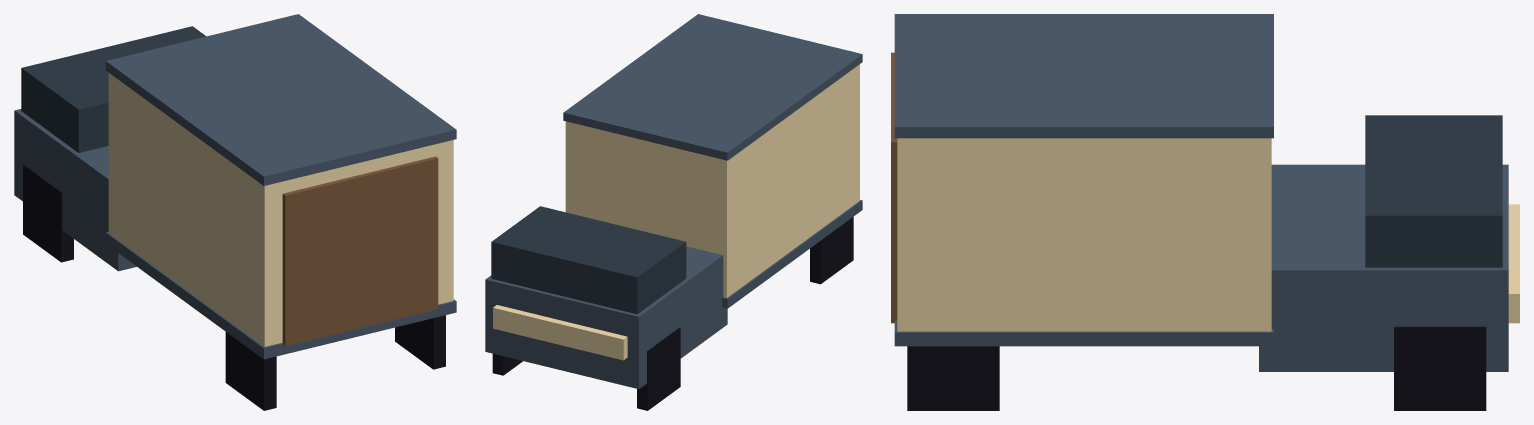
File: box_van.obj
3 views of the same model, side by side, from view 1: azimuth 30°, elevation 25°; view 2: azimuth 150°, elevation 25°; view 3: azimuth 270°, elevation 25° (orthographic). The views are drawn at different scales.
Visible parts, largest first — view 1: box_van; view 2: box_van; view 3: box_van.
Boxes of the visible parts, bbox=[...] form: box_van: bbox=[14, 14, 456, 410]; box_van: bbox=[485, 14, 862, 410]; box_van: bbox=[891, 14, 1519, 410].
Size of the model in its own units: 2.14 by 2.54 by 5.04.
